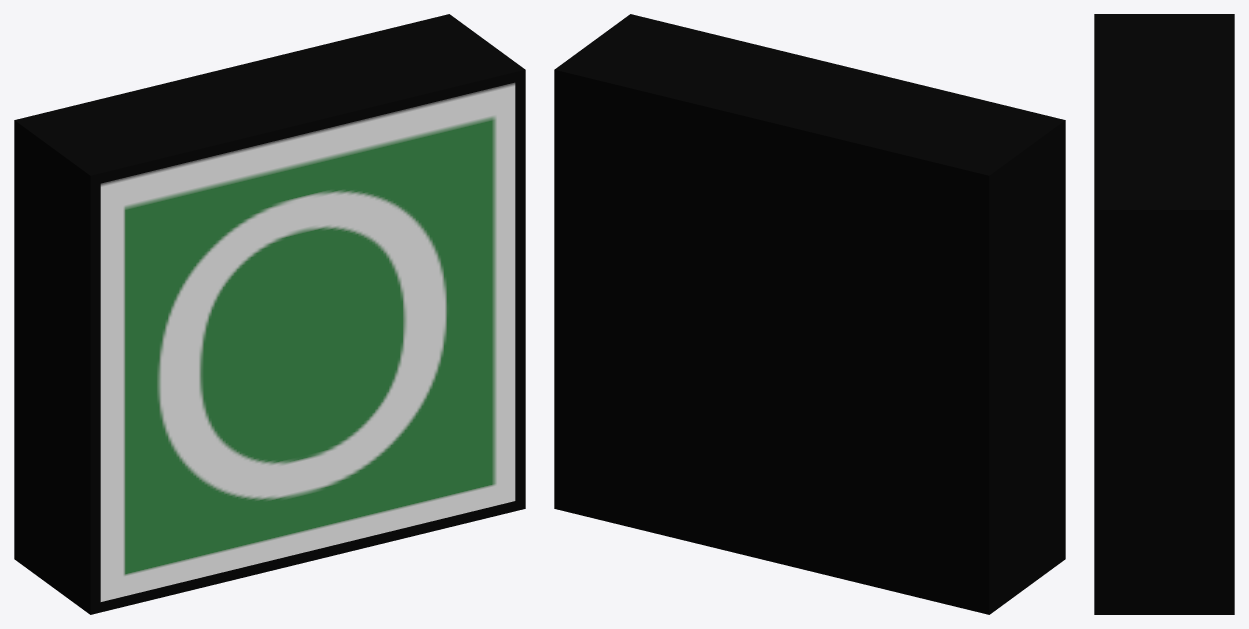
3 renders of one model, left to right at view 1: azimuth 30°, elevation 25°; view 2: azimuth 150°, elevation 25°; view 3: azimuth 270°, elevation 25°, orthographic. The views are drawn at different scales.
Visible parts, largest first — view 1: Cube; view 2: Cube; view 3: Cube.
Boxes of the visible parts, <box> form: Cube: <box>14,14,525,614</box>; Cube: <box>554,14,1065,614</box>; Cube: <box>1094,14,1234,614</box>.
Bounding box in the file's own units: 215 × 208 × 65.2.
